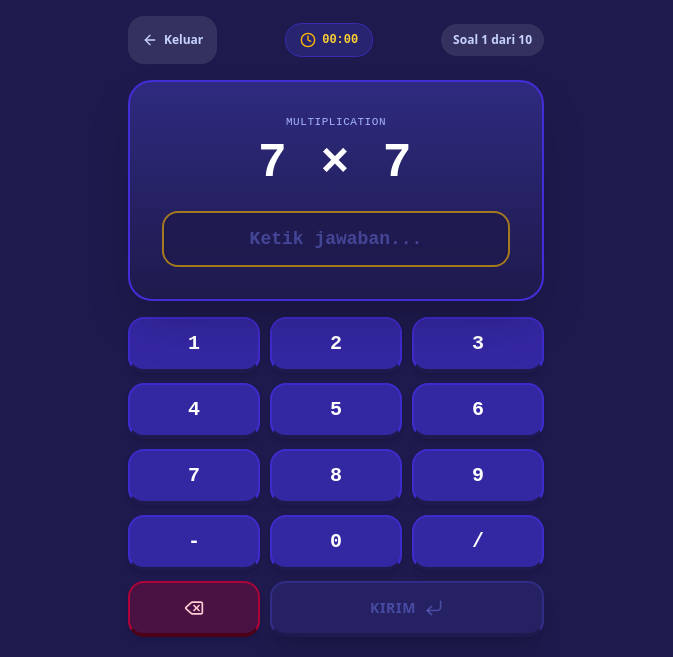
Scenario: PracticeScreen Orchestrator › launches directly into arena targeting targetSubSkillId when provided and clears on exit
Check: the text "Soal 1 dari 10" is shown, box [441, 24, 544, 56]
Exit arena
Step 1. Click the button with aria-label "kembali" → (173, 40), box [128, 16, 217, 64]
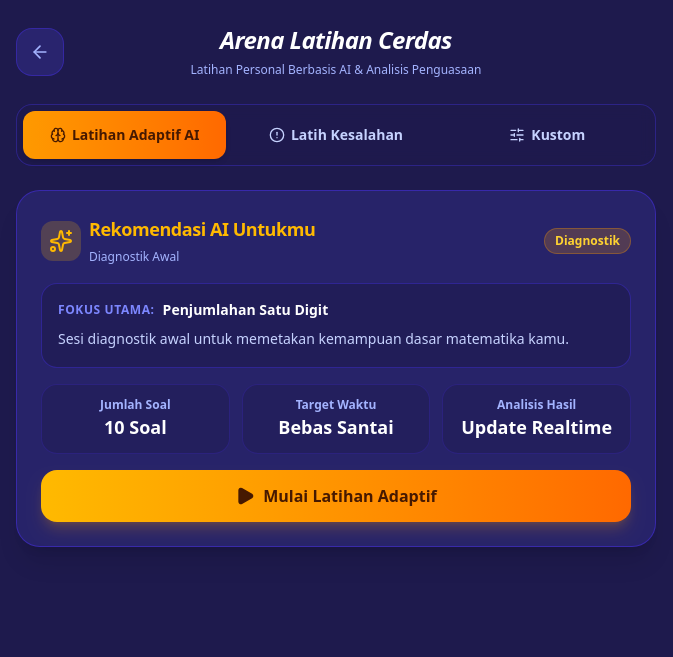
Check: the text "Latihan Adaptif AI" is shown, box [72, 125, 200, 145]
